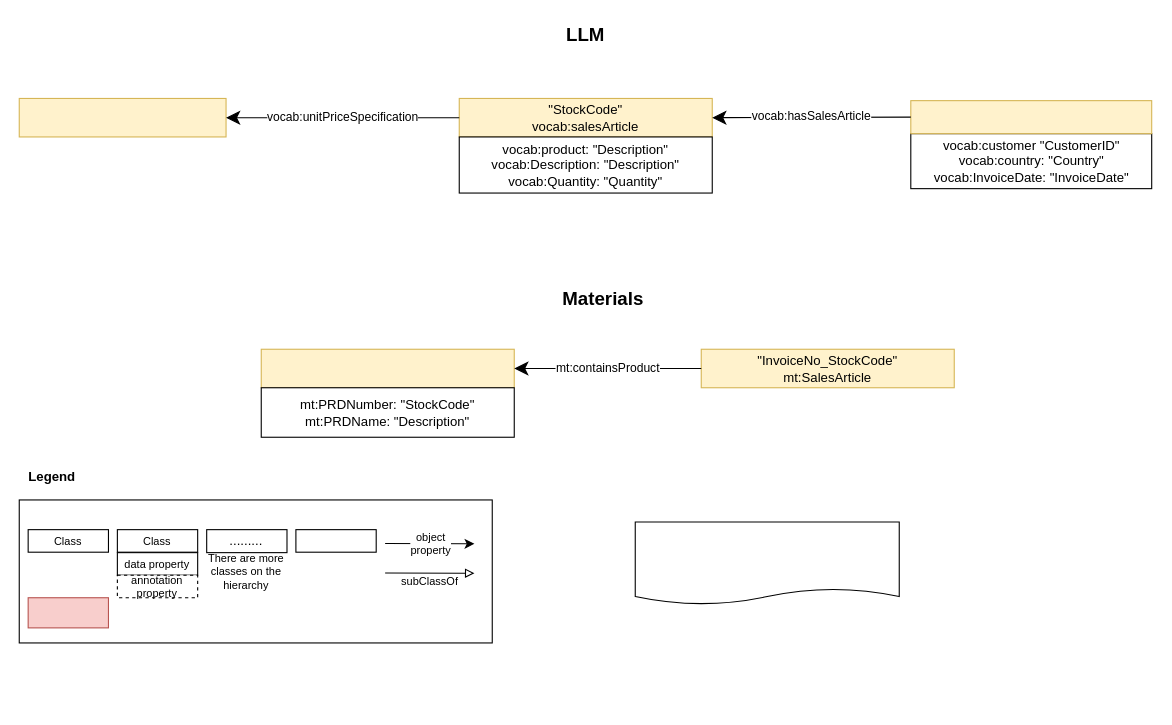
Image size: 1172x725. Some labels were removed from this diagram. The shapes that lost their labels are listed below. From the top down, each one's centre as x and y in pixels, then its label:
(122,117): "UnitPrice" schema:UnitPriceSpecification
(1031,117): "InvoiceNo" vocab:invoice
(387,368): "StockCode" mt:sales_product
(335,540): Individual
(766,562): dc:title : eCommerce
(67,612): Term excluded for the current version
